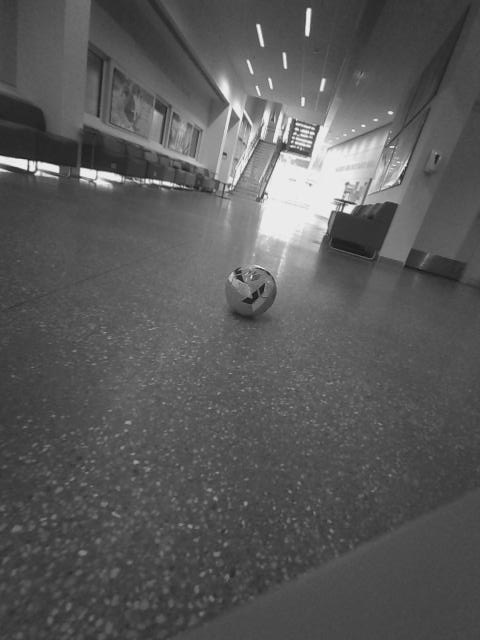ball: (297, 249, 333, 280)
